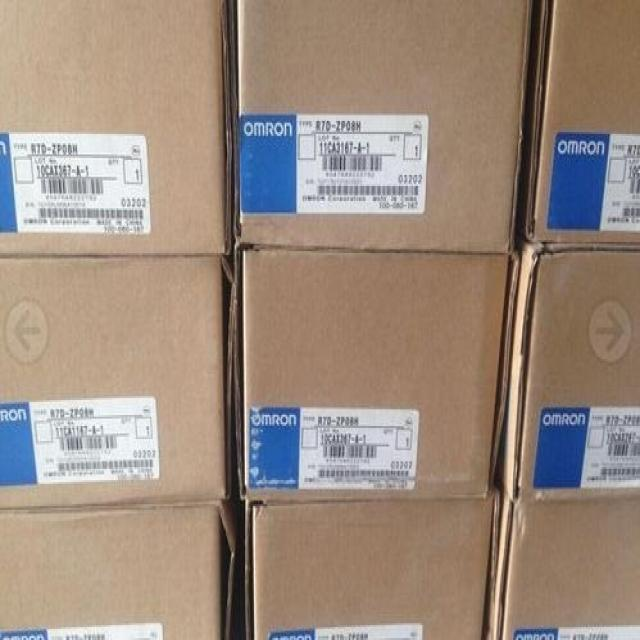Carton: (242, 253, 507, 638), (237, 0, 514, 246), (0, 257, 224, 510), (503, 238, 639, 638), (0, 508, 228, 638), (531, 0, 639, 240)
